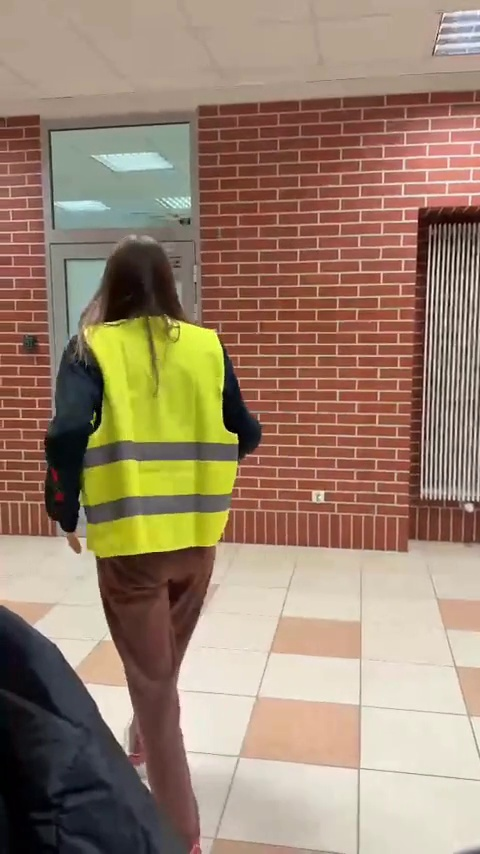vest: (39, 227, 278, 854)
